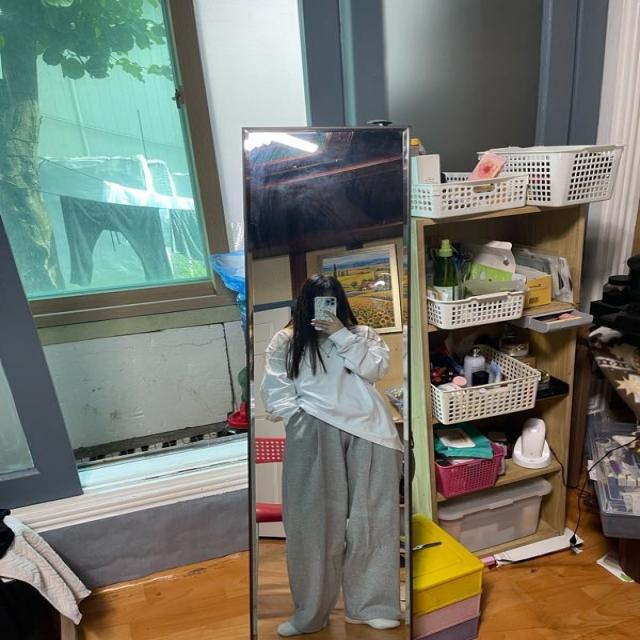longsleeve: (265, 324, 400, 457)
trainingpants: (281, 411, 401, 636)
